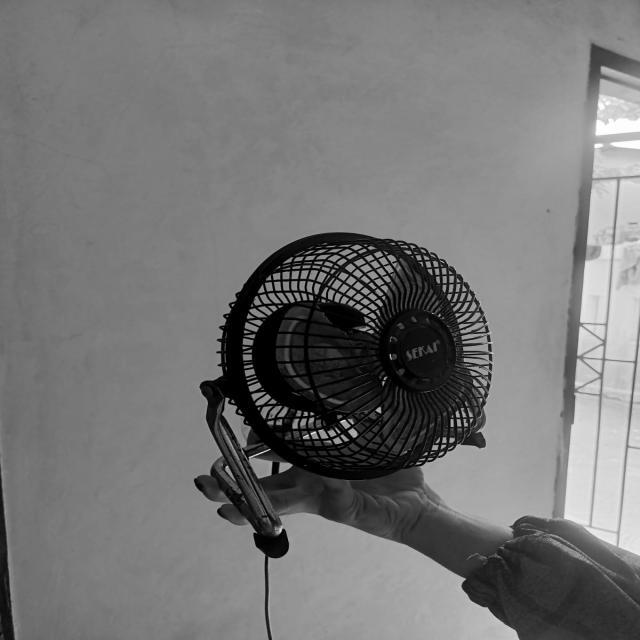fan: (200, 232, 510, 483)
